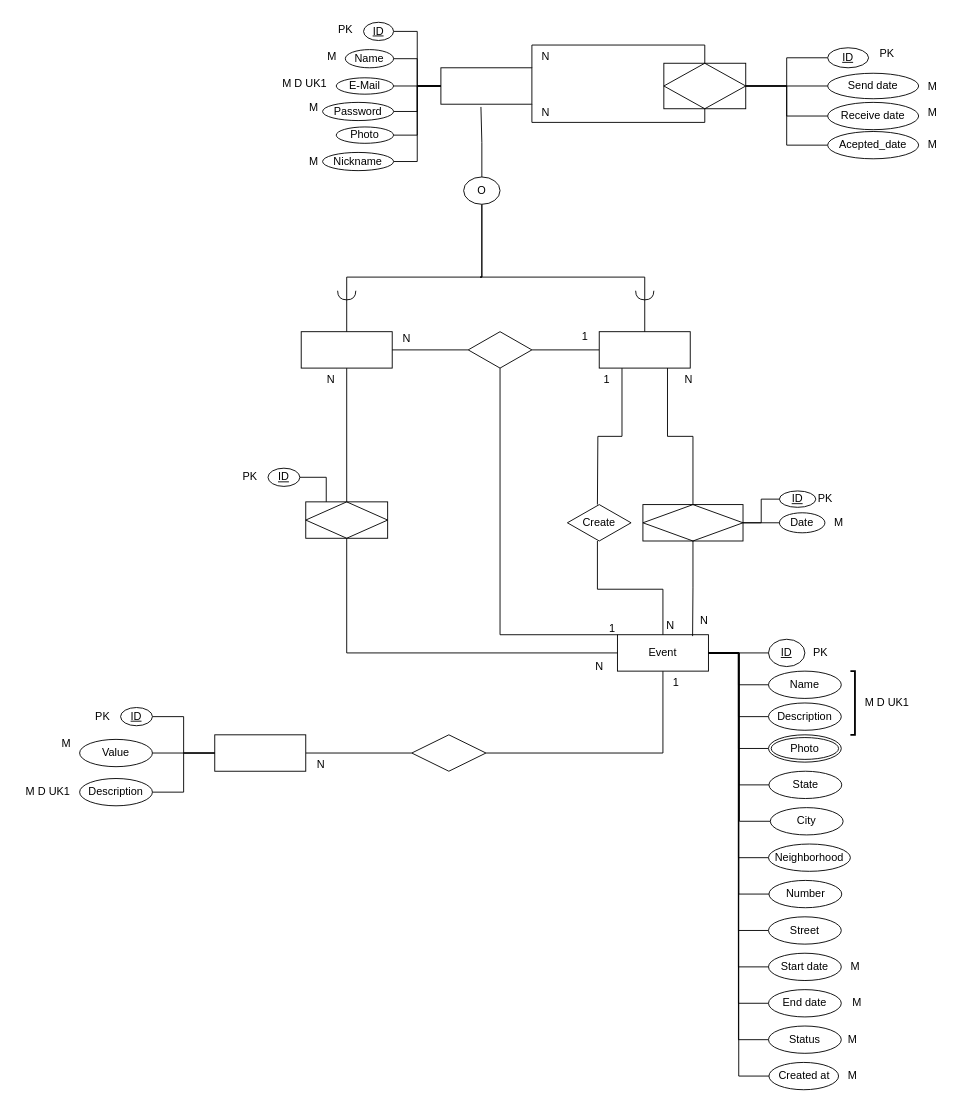
Some shapes in this 961 by 1106 pixel diagram are drawn without their labels. The box of each missing label's shape, as (x1, y1, x2, y2) in pixels:
Administrator: (598, 331, 690, 368)
Expenses: (214, 734, 306, 771)
Generate: (411, 734, 486, 771)
Invite: (467, 331, 532, 368)
Make friends: (663, 62, 746, 109)
Management: (642, 504, 743, 541)
Participant: (300, 331, 392, 368)
Participate: (305, 501, 388, 538)
User: (440, 67, 532, 104)
